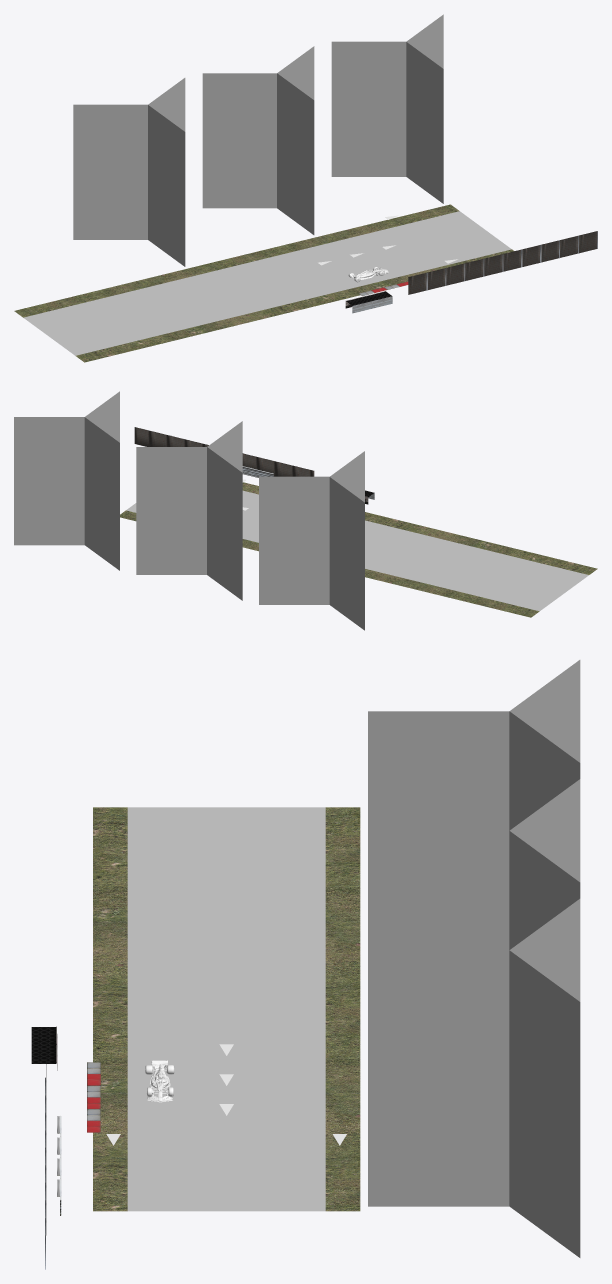
File: name.fbx
The picture shows the model from 3 angles, top to bottom: view 1: azimuth 30°, elevation 25°; view 2: azimuth 150°, elevation 25°; view 3: azimuth 270°, elevation 25°; orthographic projection. The views are drawn at different scales.
Parts seen in each view (by area): view 1: 1PIT0, TREE1, TREE3, TREE2, 1FENCE0, 1WALL100; view 2: TREE3, TREE1, TREE2, 1PIT0, 1FENCE0; view 3: 1PIT0, TREE2, TREE3, TREE1, 1WALL100, 1KERB0, F1 Model.
Boxes of the visible parts, x1,y1,x2,y2 form: 1PIT0: (14,204,514,362); TREE1: (73,78,185,266); TREE3: (202,46,314,234); TREE2: (331,14,443,203); 1FENCE0: (408,231,597,294); 1WALL100: (345,291,392,313); TREE3: (136,421,242,600); TREE1: (259,451,364,630); TREE2: (14,391,119,570); 1PIT0: (120,482,597,617); 1FENCE0: (134,427,314,476); 1PIT0: (93,807,360,1211); TREE2: (368,899,580,1257); TREE3: (368,779,580,950); TREE1: (368,660,580,830); 1WALL100: (31,1026,57,1070); 1KERB0: (87,1062,100,1132); F1 Model: (145,1060,174,1102).
Size of the model in its own units: 77.54 by 20.09 by 38.78.
